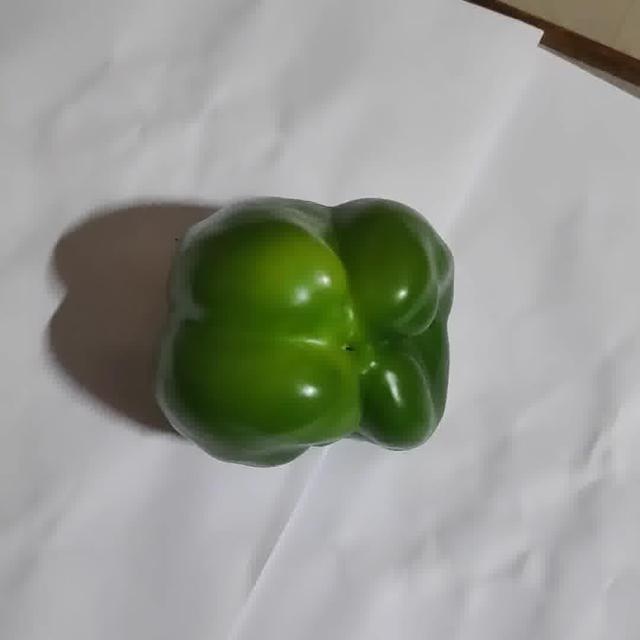Bell Pepper: (156, 199, 453, 466)
